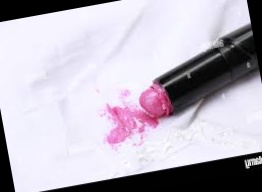lipstick: (96, 89, 156, 152)
